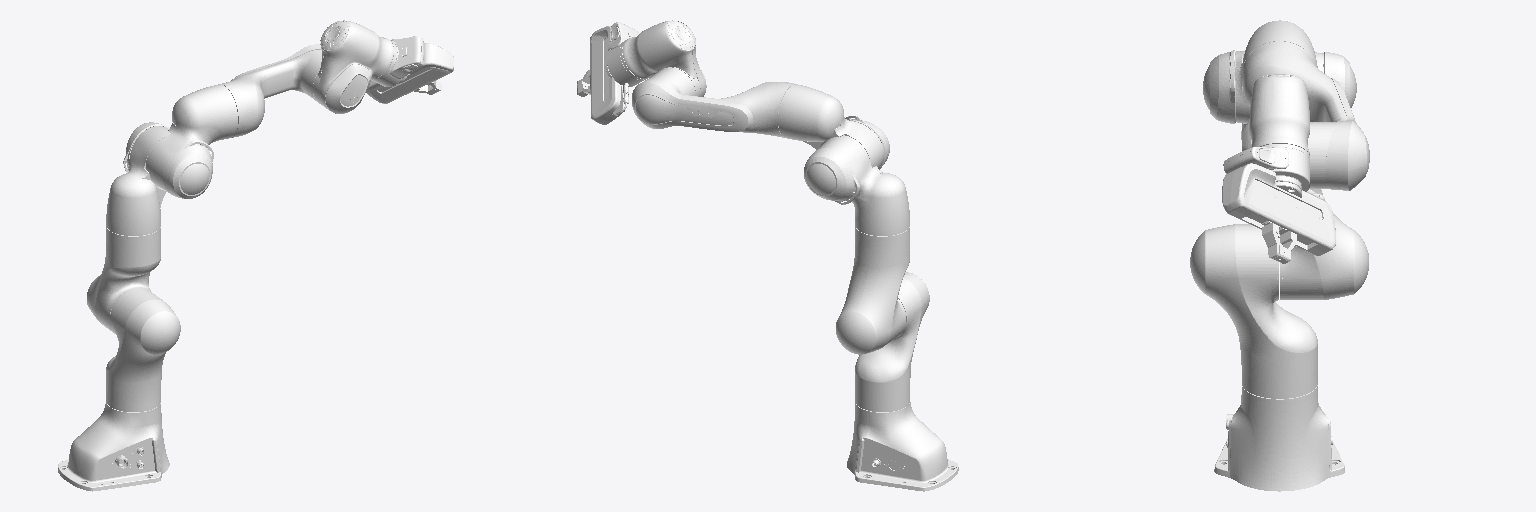
robot.urdf — fr3:
<?xml version="1.0" ?>
<!-- =================================================================================== -->
<!-- |    This document was autogenerated by xacro                                     | -->
<!-- |    EDITING THIS FILE BY HAND IS NOT RECOMMENDED                                 | -->
<!-- |    I still do it anyway. [author]                                              | -->
<!-- =================================================================================== -->
<robot name="fr3">
  <!-- sub-link defining detailed meshes for collision with environment -->
  <link name="fr3_link0">
    <visual>
      <geometry>
        <mesh filename="visual/link0.obj"/>
      </geometry>
      <material name="panda_white">
        <color rgba="1. 1. 1. 1."/>
      </material>
    </visual>
    <collision>
      <geometry>
        <mesh filename="collision/link0.stl"/>
      </geometry>
    </collision>
    <inertial>
      <origin rpy="0 0 0" xyz="-0.041018 -0.00014 0.049974"/>
      <mass value="0.629769"/>
      <inertia ixx="0.00315" ixy="8.2904e-07" ixz="0.00015" iyy="0.00388" iyz="8.2299e-06" izz="0.004285"/>
    </inertial>
  </link>

  <link name="fr3_link1">
    <visual>
      <geometry>
        <mesh filename="visual/link1.obj"/>
      </geometry>
      <material name="panda_white">
        <color rgba="1. 1. 1. 1."/>
      </material>
    </visual>
    <collision>
      <geometry>
        <mesh filename="collision/link1.stl"/>
      </geometry>
    </collision>
    <inertial>
      <origin rpy="0 0 0" xyz="0.003875 0.002081 -0.04762"/>
      <mass value="4.970684"/>
      <inertia ixx="0.70337" ixy="-0.000139" ixz="0.006772" iyy="0.70661" iyz="0.019169" izz="0.009117"/>
    </inertial>
  </link>

  <joint name="fr3_joint1" type="revolute">
    <origin rpy="0 0 0" xyz="0 0 0.333"/>
    <parent link="fr3_link0"/>
    <child link="fr3_link1"/>
    <axis xyz="0 0 1"/>
    <limit effort="87.0" lower="-2.3093" upper="2.3093" velocity="2.0"/>
    <safety_controller k_position="100.0" k_velocity="40.0" soft_lower_limit="-2.3093" soft_upper_limit="2.3093"/>
    <dynamics D="1" K="7000" damping="0.003" friction="0.0" mu_coulomb="0" mu_viscous="16"/>
  </joint>

  <link name="fr3_link2">
    <visual>
      <geometry>
        <mesh filename="visual/link2.obj"/>
      </geometry>
      <material name="panda_white">
        <color rgba="1. 1. 1. 1."/>
      </material>
    </visual>
    <collision>
      <geometry>
        <mesh filename="collision/link2.stl"/>
      </geometry>
    </collision>
    <inertial>
      <origin rpy="0 0 0" xyz="-0.003141 -0.02872  0.003495"/>
      <mass value="0.646926"/>
      <inertia ixx="0.007962" ixy="-0.003925" ixz="0.010254" iyy="0.02811" iyz="0.000704" izz="0.025995"/>
    </inertial>
  </link>

  <joint name="fr3_joint2" type="revolute">
    <origin rpy="-1.5707963267948966 0 0" xyz="0 0 0"/>
    <parent link="fr3_link1"/>
    <child link="fr3_link2"/>
    <axis xyz="0 0 1"/>
    <limit effort="87.0" lower="-1.5133" upper="1.5133" velocity="1.0"/>
    <safety_controller k_position="100.0" k_velocity="40.0" soft_lower_limit="-1.5133" soft_upper_limit="1.5133"/>
    <dynamics D="1" K="7000" damping="0.003" friction="0.0" mu_coulomb="0" mu_viscous="16"/>
  </joint>
  
  <link name="fr3_link3">
    <visual>
      <geometry>
        <mesh filename="visual/link3.obj"/>
      </geometry>
      <material name="panda_white">
        <color rgba="1. 1. 1. 1."/>
      </material>
    </visual>
    <collision>
      <geometry>
        <mesh filename="collision/link3.stl"/>
      </geometry>
    </collision>
    <inertial>
      <origin rpy="0 0 0" xyz="2.7518e-02 3.9252e-02 -6.6502e-02"/>
      <mass value="3.228604"/>
      <inertia ixx="0.037242" ixy="-0.004761" ixz="-0.011396" iyy="0.036155" iyz="-0.012805" izz="0.01083"/>
    </inertial>
  </link>
  
  <joint name="fr3_joint3" type="revolute">
    <origin rpy="1.5707963267948966 0 0" xyz="0 -0.316 0"/>
    <parent link="fr3_link2"/>
    <child link="fr3_link3"/>
    <axis xyz="0 0 1"/>
    <limit effort="87.0" lower="-2.4937" upper="2.4937" velocity="1.5"/>
    <safety_controller k_position="100.0" k_velocity="40.0" soft_lower_limit="-2.4937" soft_upper_limit="2.4937"/>
    <dynamics D="1" K="7000" damping="0.003" friction="0.0" mu_coulomb="0" mu_viscous="16"/>
  </joint>
  
  <link name="fr3_link4">
    <visual>
      <geometry>
        <mesh filename="visual/link4.obj"/>
      </geometry>
      <material name="panda_white">
        <color rgba="1. 1. 1. 1."/>
      </material>
    </visual>
    <collision>
      <geometry>
        <mesh filename="collision/link4.stl"/>
      </geometry>
    </collision>
    <inertial>
      <origin rpy="0 0 0" xyz="-5.317e-02 1.04419e-01 2.7454e-02"/>
      <mass value="3.587895"/>
      <inertia ixx="0.025853" ixy="0.007796" ixz="-0.001332" iyy="0.019552" iyz="0.008641" izz="0.028323"/>
    </inertial>
  </link>

  <joint name="fr3_joint4" type="revolute">
    <origin rpy="1.5707963267948966 0 0" xyz="0.0825 0 0"/>
    <parent link="fr3_link3"/>
    <child link="fr3_link4"/>
    <axis xyz="0 0 1"/>
    <limit effort="87.0" lower="-2.7478" upper="-0.4461" velocity="1.25"/>
    <safety_controller k_position="100.0" k_velocity="40.0" soft_lower_limit="-2.7478" soft_upper_limit="-0.4461"/>
    <dynamics D="1" K="7000" damping="0.003" friction="0.0" mu_coulomb="0" mu_viscous="16"/>
  </joint>

  <link name="fr3_link5">
    <visual>
      <geometry>
        <mesh filename="visual/link5.obj"/>
      </geometry>
      <material name="panda_white">
        <color rgba="1. 1. 1. 1."/>
      </material>
    </visual>
    <collision>
      <geometry>
        <mesh filename="collision/link5.stl"/>
      </geometry>
    </collision>
    <inertial>
      <origin rpy="0 0 0" xyz="-1.1953e-02 4.1065e-02 -3.8437e-02"/>
      <mass value="1.225946"/>
      <inertia ixx="0.035549" ixy="-0.002117" ixz="-0.004037" iyy="0.029474" iyz="0.000229" izz="0.008627"/>
    </inertial>
  </link>
  
  <joint name="fr3_joint5" type="revolute">
    <origin rpy="-1.5707963267948966 0 0" xyz="-0.0825 0.384 0"/>
    <parent link="fr3_link4"/>
    <child link="fr3_link5"/>
    <axis xyz="0 0 1"/>
    <limit effort="12.0" lower="-2.48" upper="2.48" velocity="3.0"/>
    <safety_controller k_position="100.0" k_velocity="40.0" soft_lower_limit="-2.48" soft_upper_limit="2.48"/>
    <dynamics D="1" K="7000" damping="0.003" friction="0.0" mu_coulomb="0" mu_viscous="16"/>
  </joint>

  <link name="fr3_link6">
    <visual>
      <geometry>
        <mesh filename="visual/link6.obj"/>
      </geometry>
      <material name="panda_white">
        <color rgba="1. 1. 1. 1."/>
      </material>
    </visual>
    <collision>
      <geometry>
        <mesh filename="collision/link6.stl"/>
      </geometry>
    </collision>
    <inertial>
      <origin rpy="0 0 0" xyz="6.0149e-02 -1.4117e-02 -1.0517e-02"/>
      <mass value="1.666555"/>
      <inertia ixx="0.001964" ixy="0.000109" ixz="-0.001158" iyy="0.004354" iyz="0.000341" izz="0.005433"/>
    </inertial>
  </link>
  
  <joint name="fr3_joint6" type="revolute">
    <origin rpy="1.5707963267948966 0 0" xyz="0 0 0"/>
    <parent link="fr3_link5"/>
    <child link="fr3_link6"/>
    <axis xyz="0 0 1"/>
    <limit effort="12.0" lower="0.8521" upper="4.2094" velocity="1.5"/>
    <safety_controller k_position="100.0" k_velocity="40.0" soft_lower_limit="0.8521" soft_upper_limit="4.2094"/>
    <dynamics D="1" K="7000" damping="0.003" friction="0.0" mu_coulomb="0" mu_viscous="16"/>
  </joint>
  
  <link name="fr3_link7">
    <visual>
      <geometry>
        <mesh filename="visual/link7.obj"/>
      </geometry>
      <material name="panda_white">
        <color rgba="1. 1. 1. 1."/>
      </material>
    </visual>
    <collision>
      <geometry>
        <mesh filename="collision/link7.stl"/>
      </geometry>
    </collision>
    <inertial>
      <origin rpy="0 0 0" xyz="1.0517e-02 -4.252e-03 6.1597e-02"/>
      <mass value="0.735522"/>
      <inertia ixx="0.012516" ixy="-0.000428" ixz="-0.001196" iyy="0.010027" iyz="-0.000741" izz="0.004815"/>
    </inertial>
  </link>
  
  <joint name="fr3_joint7" type="revolute">
    <origin rpy="1.5707963267948966 0 0" xyz="0.088 0 0"/>
    <parent link="fr3_link6"/>
    <child link="fr3_link7"/>
    <axis xyz="0 0 1"/>
    <limit effort="12.0" lower="-2.6895" upper="2.6895" velocity="3.0"/>
    <safety_controller k_position="100.0" k_velocity="40.0" soft_lower_limit="-2.6895" soft_upper_limit="2.6895"/>
    <dynamics D="1" K="7000" damping="0.003" friction="0.0" mu_coulomb="0" mu_viscous="16"/>
  </joint>

  <link name="fr3_link8">
    <inertial>
        <origin rpy="0 0 0" xyz="0 0 0"/>
        <mass value="1e-5"/>
        <inertia ixx="1e-6" ixy="0" ixz="0" iyy="1e-6" iyz="0" izz="1e-6"/>
    </inertial>
  </link>
  
  <joint name="fr3_joint8" type="fixed">
    <origin rpy="0 0 0" xyz="0 0 0.107"/>
    <parent link="fr3_link7"/>
    <child link="fr3_link8"/>
  </joint>
  
  <joint name="fr3_hand_joint" type="fixed">
    <parent link="fr3_link8"/>
    <child link="fr3_hand"/>
    <origin rpy="0 0 -0.7853981633974483" xyz="0 0 0"/>
  </joint>
  
  <link name="fr3_hand">
    <visual>
      <geometry>
        <mesh filename="visual/hand.obj"/>
      </geometry>
      <material name="panda_white">
        <color rgba="1. 1. 1. 1."/>
      </material>
    </visual>
    <collision>
      <geometry>
        <mesh filename="collision/hand.stl"/>
      </geometry>
    </collision>
    <inertial>
      <origin rpy="0 0 0" xyz="-0.01 0 0.03"/>
      <mass value="0.73"/>
      <inertia ixx="0.001" ixy="0" ixz="0" iyy="0.0025" iyz="0" izz="0.0017"/>
    </inertial>
  </link>

  <!-- Define the hand_tcp frame -->
  <link name="fr3_hand_tcp">
    <inertial>
        <origin rpy="0 0 0" xyz="0 0 0"/>
        <mass value="1e-5"/>
        <inertia ixx="1e-6" ixy="0" ixz="0" iyy="1e-6" iyz="0" izz="1e-6"/>
    </inertial>
  </link>

  <joint name="fr3_hand_tcp_joint" type="fixed">
    <origin rpy="0 0 0" xyz="0 0 0.1034"/>
    <parent link="fr3_hand"/>
    <child link="fr3_hand_tcp"/>
  </joint>

  <link name="fr3_leftfinger">
    <visual>
      <geometry>
        <mesh filename="visual/finger.obj"/>
      </geometry>
      <material name="panda_white">
        <color rgba="1. 1. 1. 1."/>
      </material>
    </visual>
    <!-- screw mount -->
    <collision>
      <origin rpy="0 0 0" xyz="0 18.5e-3 11e-3"/>
      <geometry>
        <box size="22e-3 15e-3 20e-3"/>
      </geometry>
    </collision>
    <!-- cartriage sledge -->
    <collision>
      <origin rpy="0 0 0" xyz="0 6.8e-3 2.2e-3"/>
      <geometry>
        <box size="22e-3 8.8e-3 3.8e-3"/>
      </geometry>
    </collision>
    <!-- diagonal finger -->
    <collision>
      <origin rpy="0.5235987755982988 0 0" xyz="0 15.9e-3 28.35e-3"/>
      <geometry>
        <box size="17.5e-3 7e-3 23.5e-3"/>
      </geometry>
    </collision>
    <!-- rubber tip with which to grasp -->
    <collision>
      <origin rpy="0 0 0" xyz="0 7.58e-3 45.25e-3"/>
      <geometry>
        <box size="17.5e-3 15.2e-3 18.5e-3"/>
      </geometry>
    </collision>
    <inertial>
      <origin rpy="0 0 0" xyz="0 0 0"/>
      <mass value="0.015"/>
      <inertia ixx="2.3749999999999997e-06" ixy="0" ixz="0" iyy="2.3749999999999997e-06" iyz="0" izz="7.5e-07"/>
    </inertial>
  </link>

  <link name="fr3_rightfinger">
    <visual>
      <origin rpy="0 0 3.141592653589793" xyz="0 0 0"/>
      <geometry>
        <mesh filename="visual/finger.obj"/>
      </geometry>
      <material name="panda_white">
        <color rgba="1. 1. 1. 1."/>
      </material>
    </visual>
    <!-- screw mount -->
    <collision>
      <origin rpy="0 0 0" xyz="0 -18.5e-3 11e-3"/>
      <geometry>
        <box size="22e-3 15e-3 20e-3"/>
      </geometry>
    </collision>
    <!-- cartriage sledge -->
    <collision>
      <origin rpy="0 0 0" xyz="0 -6.8e-3 2.2e-3"/>
      <geometry>
        <box size="22e-3 8.8e-3 3.8e-3"/>
      </geometry>
    </collision>
    <!-- diagonal finger -->
    <collision>
      <origin rpy="-0.5235987755982988 0 0" xyz="0 -15.9e-3 28.35e-3"/>
      <geometry>
        <box size="17.5e-3 7e-3 23.5e-3"/>
      </geometry>
    </collision>
    <!-- rubber tip with which to grasp -->
    <collision>
      <origin rpy="0 0 0" xyz="0 -7.58e-3 45.25e-3"/>
      <geometry>
        <box size="17.5e-3 15.2e-3 18.5e-3"/>
      </geometry>
    </collision>
    <inertial>
      <origin rpy="0 0 0" xyz="0 0 0"/>
      <mass value="0.015"/>
      <inertia ixx="2.3749999999999997e-06" ixy="0" ixz="0" iyy="2.3749999999999997e-06" iyz="0" izz="7.5e-07"/>
    </inertial>
  </link>

  <joint name="fr3_finger_joint1" type="prismatic">
    <parent link="fr3_hand"/>
    <child link="fr3_leftfinger"/>
    <origin rpy="0 0 0" xyz="0 0 0.0584"/>
    <axis xyz="0 1 0"/>
    <limit effort="100" lower="0.0" upper="0.04" velocity="0.2"/>
    <dynamics damping="0.3"/>
  </joint>

  <joint name="fr3_finger_joint2" type="prismatic">
    <parent link="fr3_hand"/>
    <child link="fr3_rightfinger"/>
    <origin rpy="0 0 0" xyz="0 0 0.0584"/>
    <axis xyz="0 -1 0"/>
    <limit effort="100" lower="0.0" upper="0.04" velocity="0.2"/>
    <mimic joint="fr3_finger_joint1"/>
    <dynamics damping="0.3"/>
  </joint>
</robot>

--- What the picture shows (computed from the rendered views, not written in the file) ---
3 views of the same robot in one strip: view 1: azimuth 30°, elevation 25°; view 2: azimuth 150°, elevation 25°; view 3: azimuth 270°, elevation 25° (orthographic).
Robot: fr3 — 13 links, 12 joints (7 revolute, 2 prismatic, 3 fixed); root link fr3_link0; default pose: all joints at 0 but 2 set to mid-range because 0 is outside their limits (fr3_joint4 = -1.6, fr3_joint6 = 2.53).
Visible links, largest first — view 1: fr3_link0, fr3_link1, fr3_link4, fr3_link6, fr3_link3, fr3_link5, fr3_link2, fr3_hand, fr3_link7; view 2: fr3_link0, fr3_link5, fr3_link2, fr3_link3, fr3_link1, fr3_link4, fr3_link6, fr3_hand, fr3_link7; view 3: fr3_link1, fr3_link0, fr3_link5, fr3_hand, fr3_link2, fr3_link6, fr3_link4, fr3_link7, fr3_link3, fr3_leftfinger.
Link boxes in pixels (box(x1,y1,x2,y2)): fr3_link0: box(58, 403, 169, 491); fr3_link1: box(106, 288, 180, 411); fr3_link4: box(146, 84, 237, 198); fr3_link6: box(313, 20, 393, 113); fr3_link3: box(106, 122, 170, 235); fr3_link5: box(222, 44, 321, 137); fr3_link2: box(87, 227, 160, 333); fr3_hand: box(366, 43, 453, 103); fr3_link7: box(371, 36, 423, 86); fr3_link0: box(847, 402, 958, 491); fr3_link5: box(632, 67, 794, 137); fr3_link2: box(836, 227, 909, 354); fr3_link3: box(804, 135, 909, 235); fr3_link1: box(855, 272, 929, 411); fr3_link4: box(778, 84, 889, 169); fr3_link6: box(622, 20, 706, 96); fr3_hand: box(590, 26, 628, 124); fr3_link7: box(607, 22, 645, 86); fr3_link1: box(1190, 224, 1317, 398); fr3_link0: box(1214, 385, 1344, 491); fr3_link5: box(1242, 41, 1369, 190); fr3_hand: box(1222, 163, 1335, 255); fr3_link2: box(1280, 189, 1368, 299); fr3_link6: box(1241, 74, 1309, 154); fr3_link4: box(1203, 20, 1317, 123); fr3_link7: box(1223, 144, 1309, 191); fr3_link3: box(1242, 52, 1356, 128); fr3_leftfinger: box(1262, 221, 1283, 260).
Bounding box of the posed robot: 0.8595 × 0.2593 × 0.8578 m (x, y, z).
Meshes: 10 distinct files referenced, 11 mesh visuals loaded (10 OBJ).